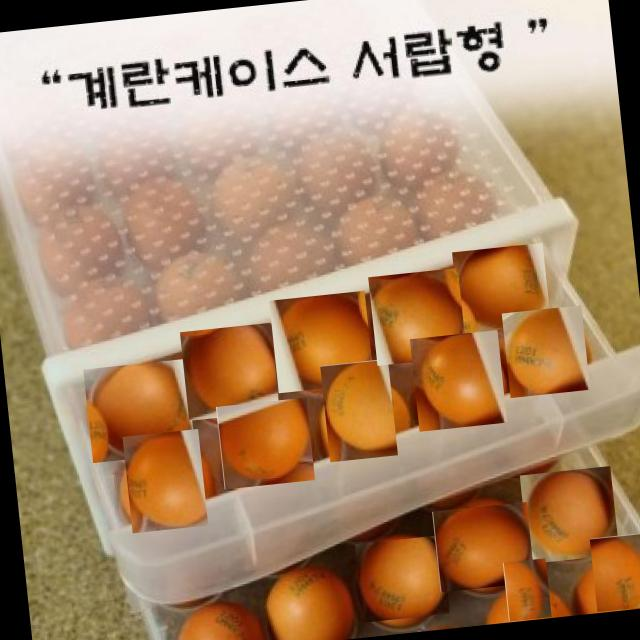eggs: (84, 356, 193, 465), (269, 289, 373, 393), (518, 464, 619, 564), (408, 330, 508, 430), (179, 322, 279, 421), (368, 266, 466, 366), (434, 498, 532, 595), (452, 240, 548, 336), (118, 432, 214, 528), (216, 396, 314, 489), (354, 534, 450, 622), (500, 305, 591, 396), (314, 364, 404, 456), (264, 558, 358, 640), (579, 541, 640, 613), (496, 565, 560, 623)
